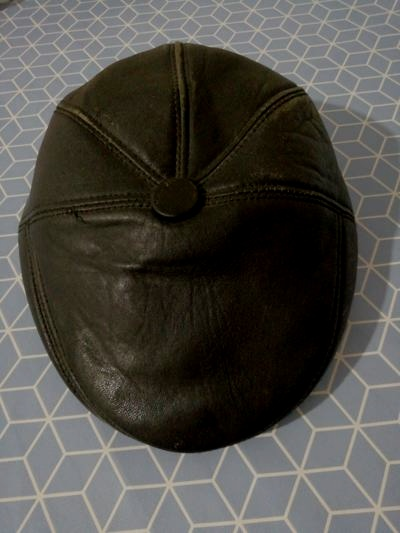Hat: (22, 25, 390, 463)
